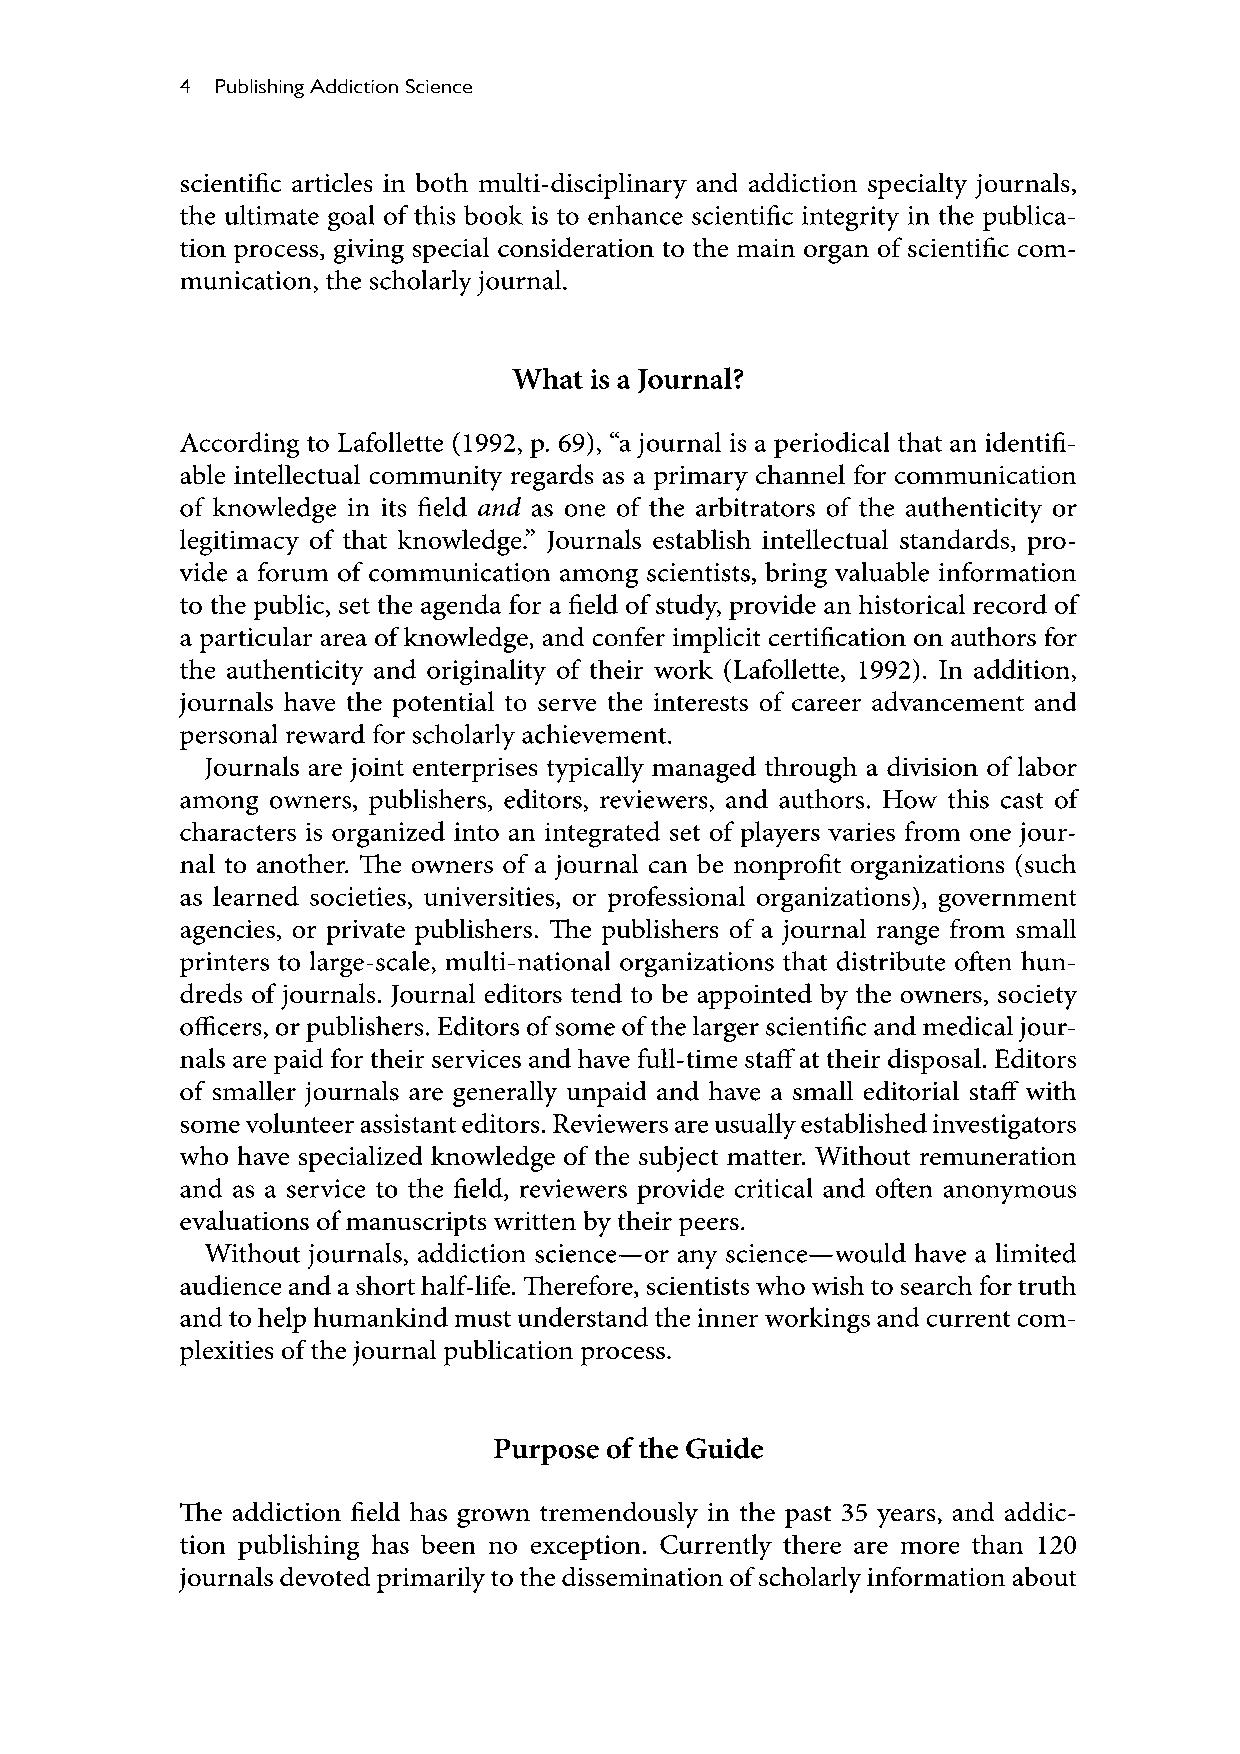chapter: (509, 358, 745, 399), (490, 1432, 768, 1465)
content: (174, 423, 1082, 1372), (178, 169, 1075, 298), (172, 1494, 1082, 1592)
content_chapter: (213, 74, 479, 99)
content_pagenumber: (178, 71, 193, 98)
